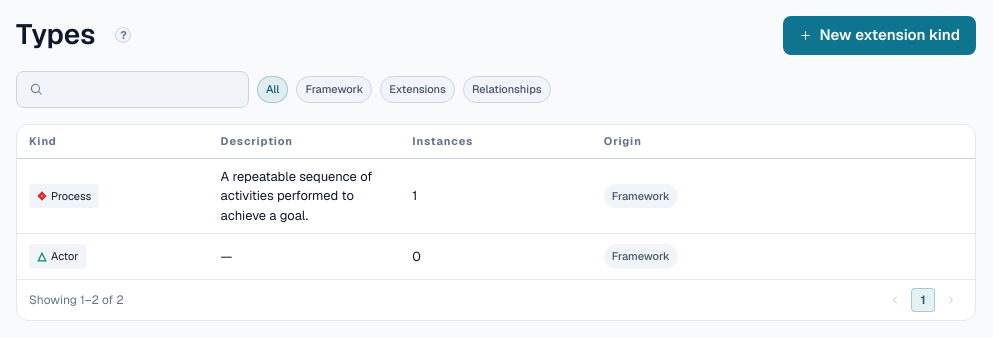
Test: CeTypesPage › shows relationship shapes on the Relationships chip
expect the text "Process" is shown: met, box top-left (29, 184), bottom-right (99, 208)
Click the button "Relationships".
click(507, 89)  # box top-left (463, 76), bottom-right (551, 102)
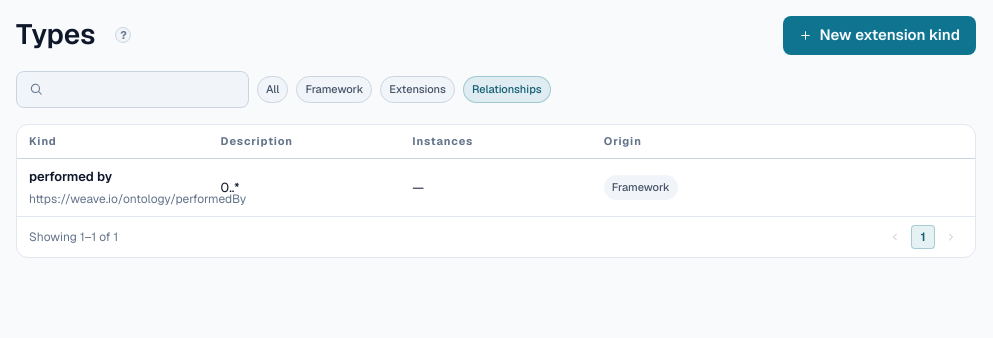
expect the text "performed by" is shown: met, box top-left (29, 168), bottom-right (112, 184)
expect the text "Process" is gone: met
